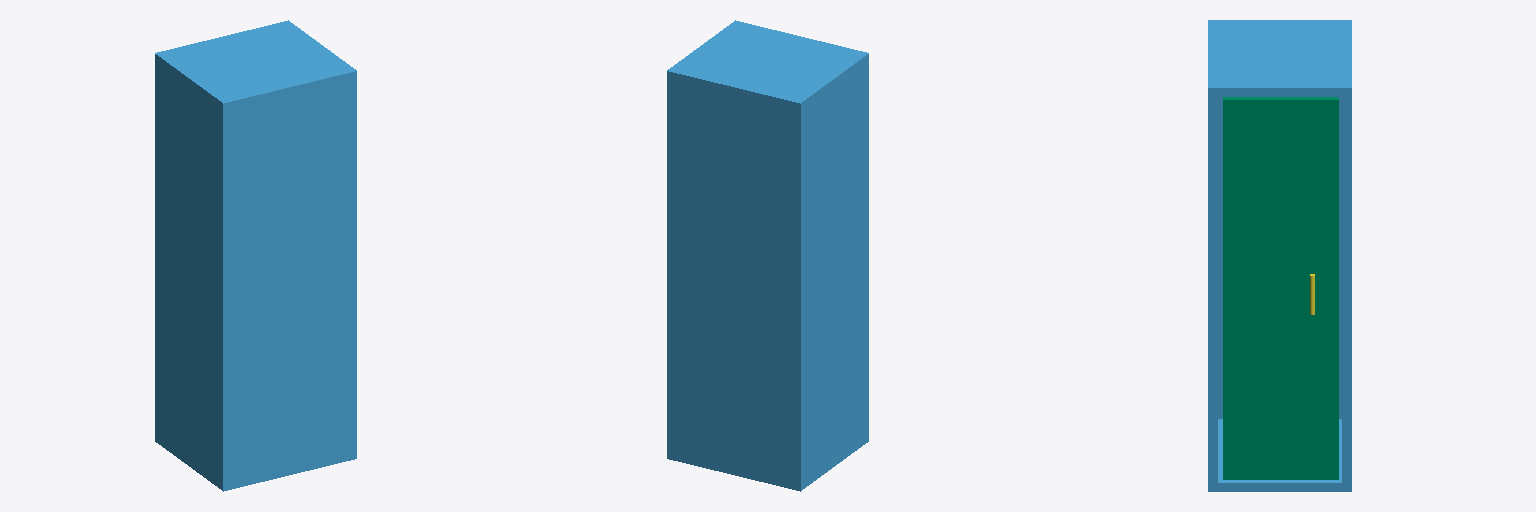
URDF robot description (my_cabinet):
<?xml version="1.0" ?>
<robot name="my_cabinet">
	<link name="world"/>
	<joint name="virtual_joint" type="fixed">
		<parent link="world"/>
		<child link="base_cabinet_link"/>
		<origin xyz="0.0 0.0 0.0" rpy="0.0 0.0 0.0"/>
	</joint>
	<link name="base_cabinet_link">
		<visual>
			<origin xyz="0.0 -0.0025 -0.40617298117270006" rpy="0.0 0.0 0.0"/>
			<geometry>
				<box size="0.3 0.26701234686673153 0.018"/>
			</geometry>
		</visual>
		<collision name="base_cabinet_link_collision_0">
			<origin xyz="0.0 -0.0025 -0.40617298117270006" rpy="0.0 0.0 0.0"/>
			<geometry>
				<box size="0.3 0.26701234686673153 0.018"/>
			</geometry>
		</collision>
		<visual>
			<origin xyz="0.0 0.12200617343336578 0.0" rpy="0.0 0.0 0.0"/>
			<geometry>
				<box size="0.3 0.018 0.8303459623454001"/>
			</geometry>
		</visual>
		<collision name="base_cabinet_link_collision_1">
			<origin xyz="0.0 0.12200617343336578 0.0" rpy="0.0 0.0 0.0"/>
			<geometry>
				<box size="0.3 0.018 0.8303459623454001"/>
			</geometry>
		</collision>
		<visual>
			<origin xyz="0.0 -0.1270061734333658 0.0" rpy="0.0 0.0 0.0"/>
			<geometry>
				<box size="0.3 0.018 0.8303459623454001"/>
			</geometry>
		</visual>
		<collision name="base_cabinet_link_collision_2">
			<origin xyz="0.0 -0.1270061734333658 0.0" rpy="0.0 0.0 0.0"/>
			<geometry>
				<box size="0.3 0.018 0.8303459623454001"/>
			</geometry>
		</collision>
		<visual>
			<origin xyz="0.0 -0.0025 0.40617298117270006" rpy="0.0 0.0 0.0"/>
			<geometry>
				<box size="0.3 0.2670123468667316 0.018"/>
			</geometry>
		</visual>
		<collision name="base_cabinet_link_collision_3">
			<origin xyz="0.0 -0.0025 0.40617298117270006" rpy="0.0 0.0 0.0"/>
			<geometry>
				<box size="0.3 0.2670123468667316 0.018"/>
			</geometry>
		</collision>
		<visual>
			<origin xyz="-0.141 -0.0025 0.0" rpy="0.0 0.0 0.0"/>
			<geometry>
				<box size="0.018 0.2670123468667316 0.8303459623454001"/>
			</geometry>
		</visual>
		<collision name="base_cabinet_link_collision_4">
			<origin xyz="-0.141 -0.0025 0.0" rpy="0.0 0.0 0.0"/>
			<geometry>
				<box size="0.018 0.2670123468667316 0.8303459623454001"/>
			</geometry>
		</collision>
		<inertial>
			<mass value="0.200000"/>
			<inertia ixx="0.012680" ixy="0.0" ixz="0.0" iyy="0.012991" iyz="0.0" izz="0.002688"/>
		</inertial>
	</link>
	<link name="door_link">
		<visual>
			<origin xyz="0.0 -0.10800617343336578 0.0"/>
			<geometry>
				<box size="0.018 0.21601234686673157 0.7843459623454001"/>
			</geometry>
		</visual>
		<collision name="door_link_collision">
			<origin xyz="0.0 -0.10800617343336578 0.0"/>
			<geometry>
				<box size="0.018 0.21601234686673157 0.7843459623454001"/>
			</geometry>
		</collision>
		<inertial>
			<mass value="0.200000"/>
			<inertia ixx="0.011031" ixy="0.0" ixz="0.0" iyy="0.010259" iyz="0.0" izz="0.000783"/>
		</inertial>
	</link>
	<joint name="door_joint" type="revolute">
		<origin xyz="0.141 -0.10800617343336578 0.0" rpy="0.000000 -0.000000 3.141593"/>
		<axis xyz="0 0 1"/>
		<parent link="base_cabinet_link"/>
		<child link="door_link"/>
		<limit effort="50" lower="-1.658062789394613" upper="0" velocity="10"/>
		<dynamics friction="3.5" damping="3.5"/>
	</joint>
	<link name="handle_link">
		<visual>
			<origin xyz="0.0 0.0 0.0" rpy="0.0 0.0 0.0"/>
			<geometry>
				<cylinder length="0.08" radius="0.005"/>
			</geometry>
		</visual>
		<collision name="handle_link_collision_0">
			<origin xyz="0.0 0.0 0.0" rpy="0.0 0.0 0.0"/>
			<geometry>
				<cylinder length="0.08" radius="0.005"/>
			</geometry>
		</collision>
		<visual>
			<origin xyz="-0.01 0.0 0.02" rpy="0.0 1.5707963267948966 0.0"/>
			<geometry>
				<cylinder length="0.02" radius="0.003"/>
			</geometry>
		</visual>
		<collision name="handle_link_collision_1">
			<origin xyz="-0.01 0.0 0.02" rpy="0.0 1.5707963267948966 0.0"/>
			<geometry>
				<cylinder length="0.01" radius="0.003"/>
			</geometry>
		</collision>
		<visual>
			<origin xyz="-0.01 0.0 -0.02" rpy="0.0 1.5707963267948966 0.0"/>
			<geometry>
				<cylinder length="0.02" radius="0.003"/>
			</geometry>
		</visual>
		<collision name="handle_link_collision_2">
			<origin xyz="-0.01 0.0 -0.02" rpy="0.0 1.5707963267948966 0.0"/>
			<geometry>
				<cylinder length="0.02" radius="0.003"/>
			</geometry>
		</collision>
		<inertial>
			<mass value="0.050000"/>
			<inertia ixx="0.000027" ixy="0.0" ixz="0.0" iyy="0.000029" iyz="0.0" izz="0.000003"/>
		</inertial>
	</link>
	<joint name="handle_joint" type="fixed">
		<origin xyz="-0.028999999999999998 -0.16601234686673155 0.0" rpy="0.000000 -0.000000 3.141593"/>
		<parent link="door_link"/>
		<child link="handle_link"/>
	</joint>
	<gazebo reference="base_cabinet_link">
		<sensor name="main_sensor" type="contact">
			<selfCollide>true</selfCollide>
			<alwaysOn>true</alwaysOn>
			<updateRate>5.0</updateRate>
			<material>Gazebo/Red</material>
			<contact>
				<collision>base_cabinet_link_collision_0_collision</collision>
				<collision>base_cabinet_link_collision_1_collision</collision>
				<collision>base_cabinet_link_collision_2_collision</collision>
				<collision>base_cabinet_link_collision_3_collision</collision>
				<collision>base_cabinet_link_collision_4_collision</collision>
			</contact>
			<plugin name="gazebo_ros_bumper_controller" filename="libgazebo_ros_bumper.so">
				<bumperTopicName>/contact</bumperTopicName>
				<frameName>world</frameName>
			</plugin>
		</sensor>
	</gazebo>
	<gazebo reference="door_link">
		<sensor name="main_sensor" type="contact">
			<selfCollide>true</selfCollide>
			<alwaysOn>true</alwaysOn>
			<updateRate>5.0</updateRate>
			<material>Gazebo/Red</material>
			<contact>
				<collision>door_link_collision_collision</collision>
			</contact>
			<plugin name="gazebo_ros_bumper_controller" filename="libgazebo_ros_bumper.so">
				<bumperTopicName>/contact_door</bumperTopicName>
				<frameName>contact_door</frameName>
			</plugin>
		</sensor>
	</gazebo>
	<gazebo reference="door_link">
		<mu>3.0</mu>
		<mu2>3.0</mu2>
		<kp>10000000</kp>
		<kd>100</kd>
	</gazebo>
</robot>

--- Facts derived from the render (not from the file) ---
The picture shows the robot from 3 angles, left to right: view 1: azimuth 30°, elevation 25°; view 2: azimuth 150°, elevation 25°; view 3: azimuth 270°, elevation 25°; orthographic projection.
Model my_cabinet with 4 links and 3 joints (1 revolute, 2 fixed), rooted at world, posed all joints at 0.
Visible links, largest first — view 1: base_cabinet_link; view 2: base_cabinet_link; view 3: door_link, base_cabinet_link.
Link boxes in pixels (<box>): base_cabinet_link: <box>155,20,356,491</box>; base_cabinet_link: <box>667,20,868,491</box>; door_link: <box>1223,97,1338,479</box>; base_cabinet_link: <box>1208,20,1351,491</box>.
Size in the robot's own frame: 0.325 by 0.267 by 0.8303 metres.
Geometry: primitives only (box / cylinder / sphere), no mesh files.
